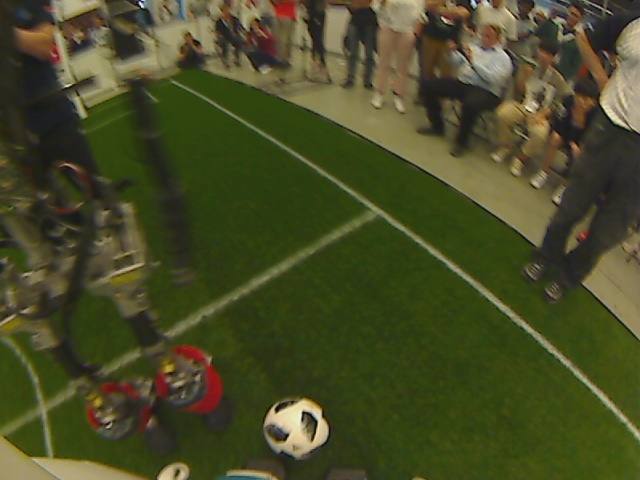ball: (261, 393, 328, 460)
